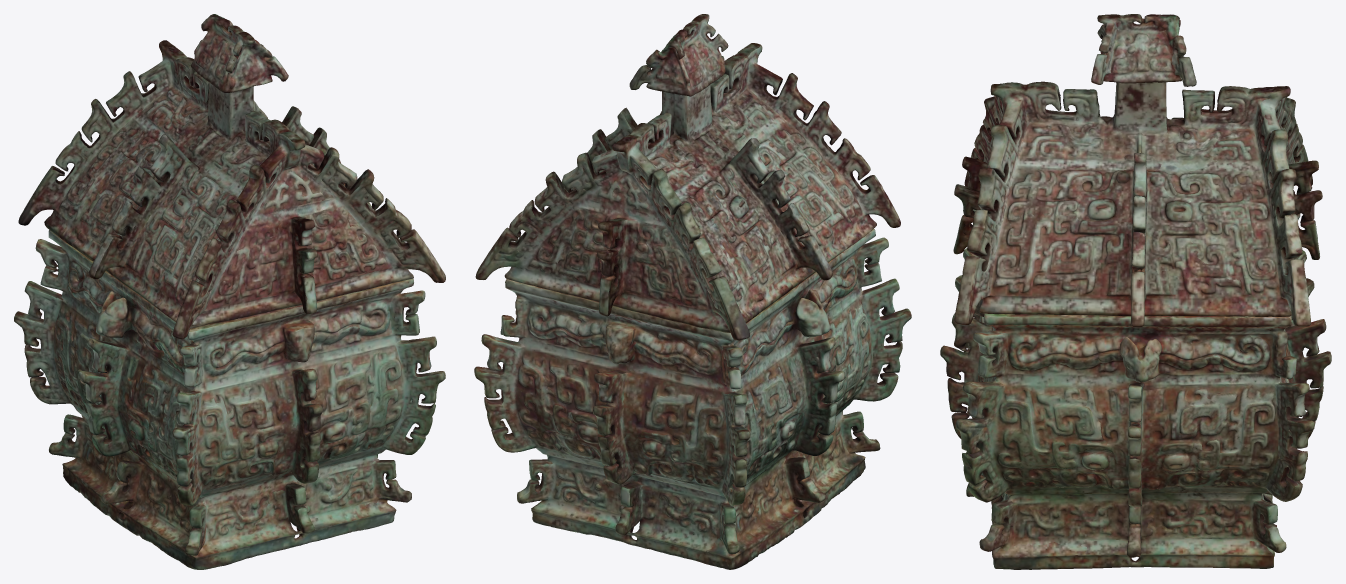
File: fangyi_bronze.glb
3 renders of one model, left to right at view 1: azimuth 30°, elevation 25°; view 2: azimuth 150°, elevation 25°; view 3: azimuth 270°, elevation 25°, orthographic. The views are drawn at different scales.
Parts seen in each view (by area): view 1: Mesh_0.003; view 2: Mesh_0.003; view 3: Mesh_0.003.
Part boxes in pixels (x1=…): Mesh_0.003: x1=14, y1=14, x2=445, y2=569; Mesh_0.003: x1=474, y1=14, x2=911, y2=569; Mesh_0.003: x1=940, y1=14, x2=1331, y2=569.
Size of the model in its own units: 0.2328 by 0.3536 by 0.2476.
Materials: 1 (1 with a texture image).
